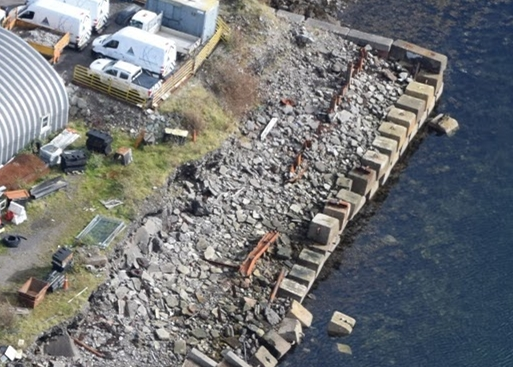cuboid: (76, 211, 128, 251)
straight_bar: (234, 229, 279, 277), (255, 114, 283, 144)
together_barrel: (40, 125, 138, 176), (14, 245, 77, 312)
tube: (266, 265, 289, 307), (73, 335, 105, 358)
